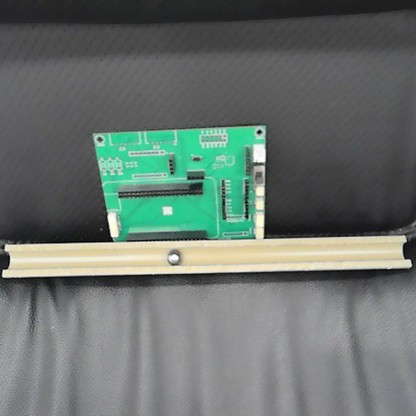ironball: (164, 246, 183, 265)
